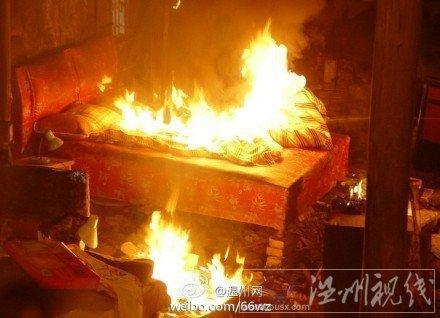fire: (85, 26, 330, 158), (128, 188, 252, 314)
